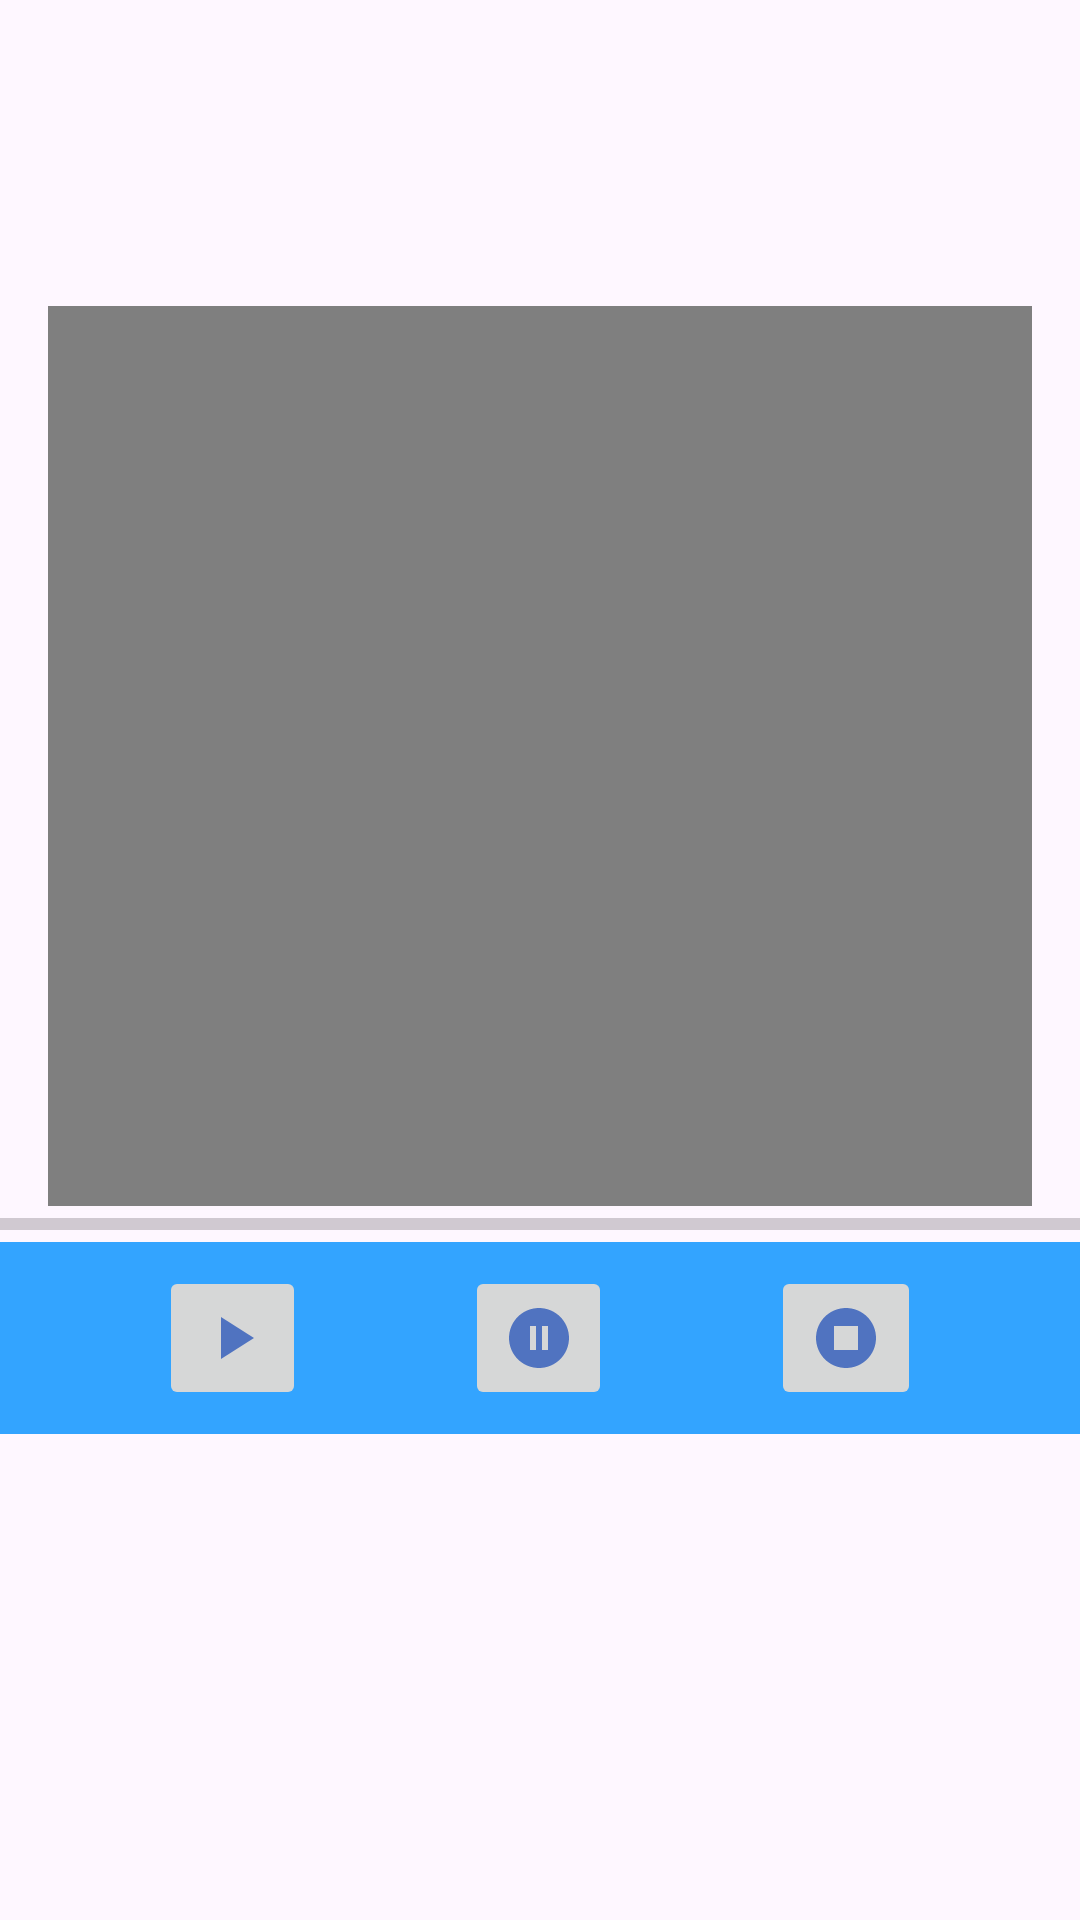

Screen size 1080px x 1920px. Icon name, then its box in pixels as {"x1": x1, "y1": y1, "x2": x2, "y2": y2}:
pause circle: {"x1": 477, "y1": 1284, "x2": 600, "y2": 1392}
play arrow: {"x1": 171, "y1": 1284, "x2": 294, "y2": 1392}
stop circle: {"x1": 783, "y1": 1284, "x2": 909, "y2": 1392}
